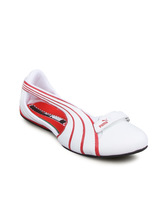shoes: (7, 68, 164, 162)
